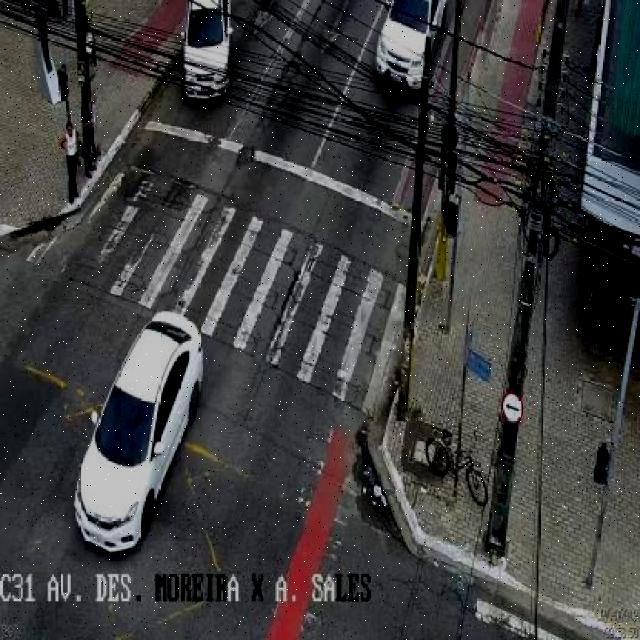Car: (78, 310, 200, 553), (181, 0, 244, 105), (379, 0, 444, 84)
Cycle: (424, 422, 498, 511)
